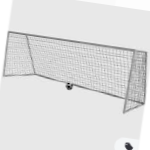goals: (1, 29, 148, 115)
